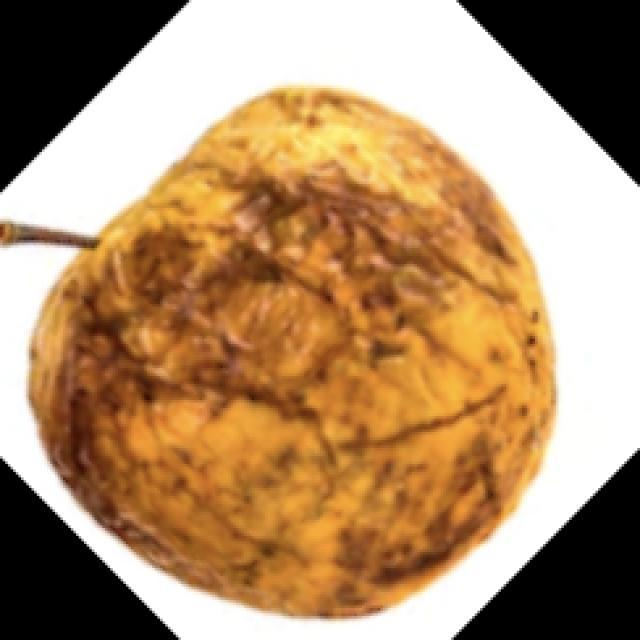Rotten: (38, 92, 555, 608)
